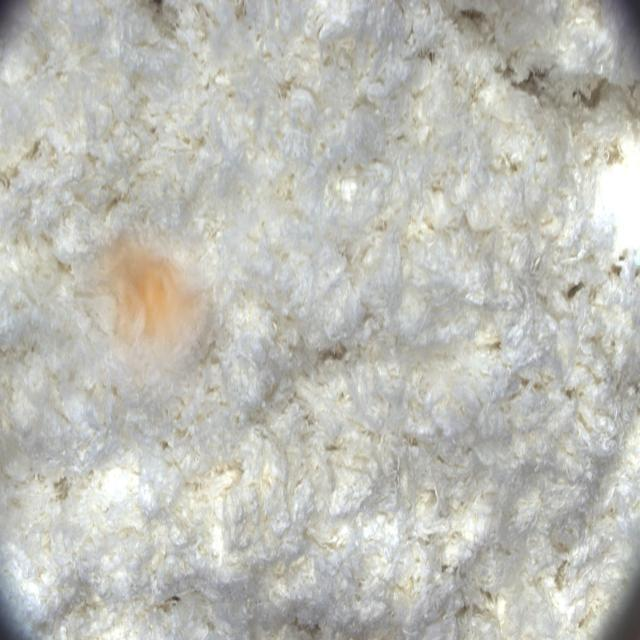dust: (73, 224, 224, 414)
